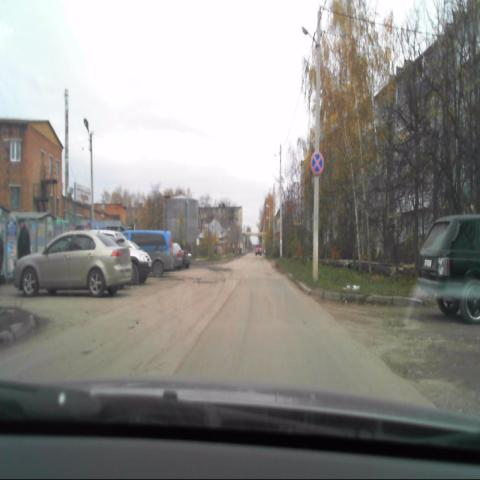3_27: (310, 152, 324, 176)
